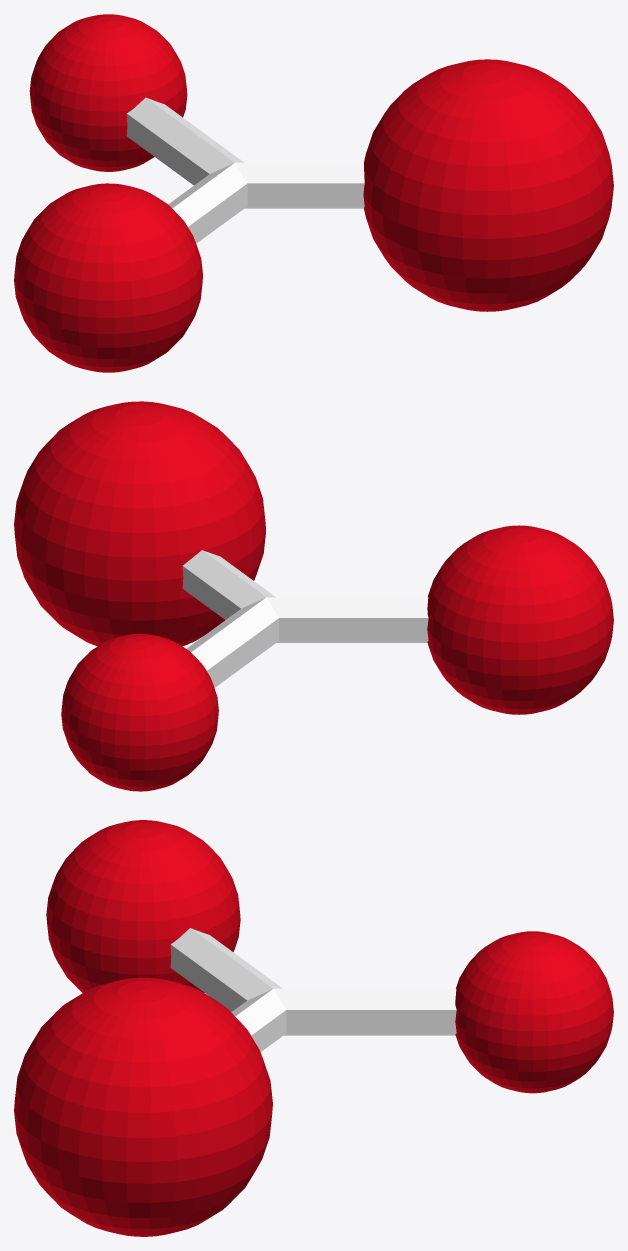
File: WaveBullet.dae
The picture shows the model from 3 angles, top to bottom: view 1: azimuth 30°, elevation 25°; view 2: azimuth 150°, elevation 25°; view 3: azimuth 270°, elevation 25°; orthographic projection. The views are drawn at different scales.
Parts seen in each view (by area): view 1: Sphere.002, Sphere.001, Sphere, Cylinder.002, Cylinder, Cylinder.001; view 2: Sphere.002, Sphere.001, Sphere, Cylinder.001, Cylinder, Cylinder.002; view 3: Sphere.002, Sphere.001, Sphere, Cylinder, Cylinder.001, Cylinder.002.
Part boxes in pixels (box(x1,y1,x2,y2)): Sphere.002: box(363, 59, 613, 311); Sphere.001: box(14, 183, 202, 372); Sphere: box(29, 14, 187, 171); Cylinder.002: box(235, 162, 364, 208); Cylinder: box(126, 97, 243, 185); Cylinder.001: box(168, 163, 247, 243); Sphere.002: box(14, 401, 265, 646); Sphere.001: box(427, 525, 613, 714); Sphere: box(61, 633, 218, 791); Cylinder.001: box(266, 597, 428, 642); Cylinder: box(186, 597, 278, 687); Cylinder.002: box(182, 550, 275, 619); Sphere.002: box(14, 977, 272, 1236); Sphere.001: box(46, 820, 240, 992); Sphere: box(455, 931, 613, 1093); Cylinder: box(273, 988, 456, 1035); Cylinder.001: box(170, 928, 282, 1011); Cylinder.002: box(231, 989, 286, 1051).
Bounding box in the file's own units: 5.21 × 4.62 × 2.
